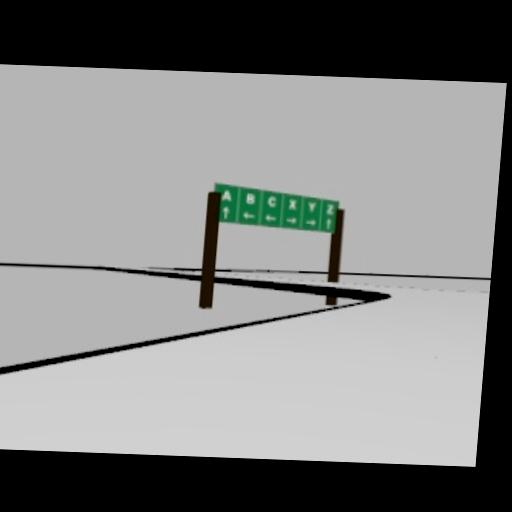A: (221, 190, 232, 202)
B: (246, 193, 255, 204)
C: (267, 196, 277, 208)
Left: (264, 214, 278, 223), (242, 212, 256, 220)
Right: (284, 216, 298, 225), (305, 218, 317, 226)
Straight: (222, 206, 231, 220), (325, 218, 332, 230)
X: (287, 198, 298, 211)
Y: (307, 200, 317, 212)
Z: (325, 203, 336, 215)
